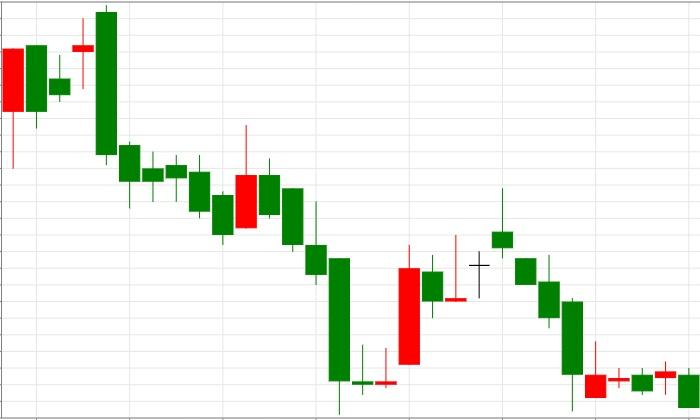inverse_hammer_rise: (491, 187, 607, 411)
